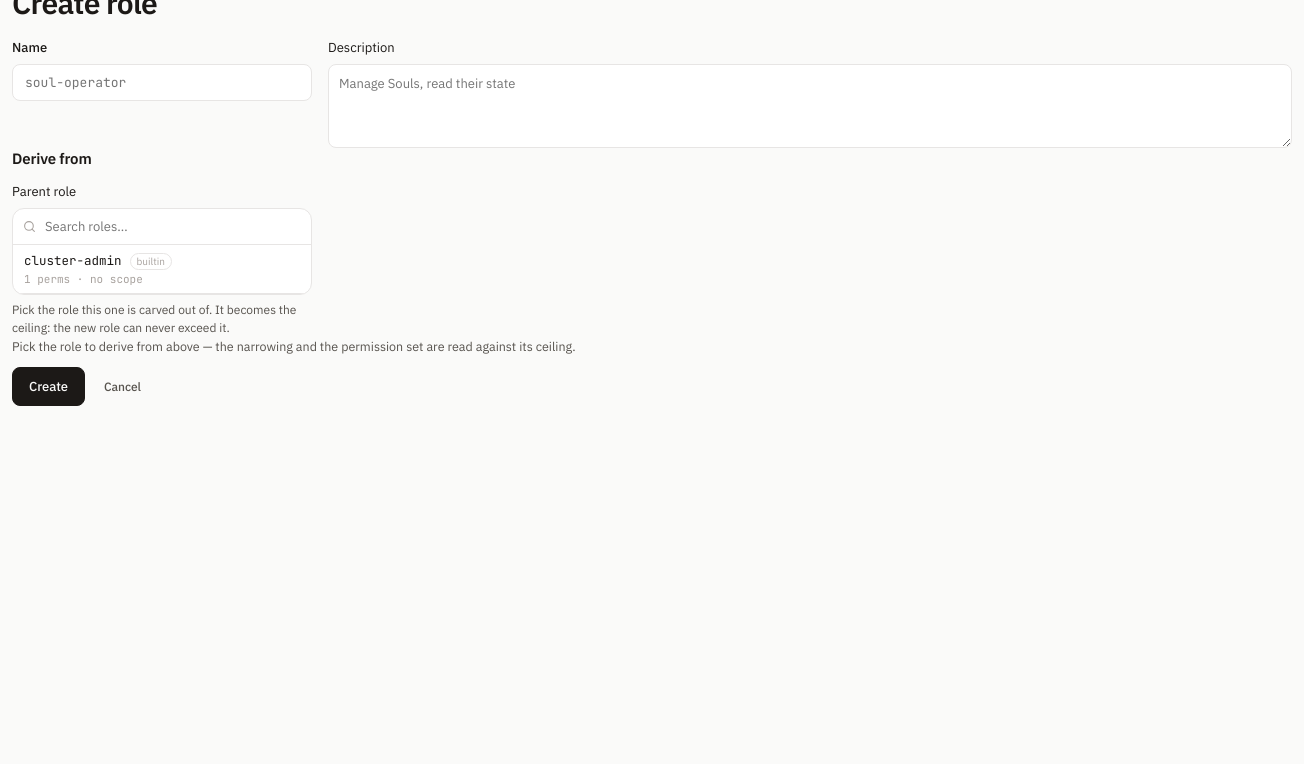
Scenario: CreateRolePage (NIM-80) › 409 already-exists → error visible, page is not left
This screenshot has width=1304, height=764.
Step 1. Type "log-reader" into the field with placeholder "soul-operator" → [162, 82], box [12,64,312,100]
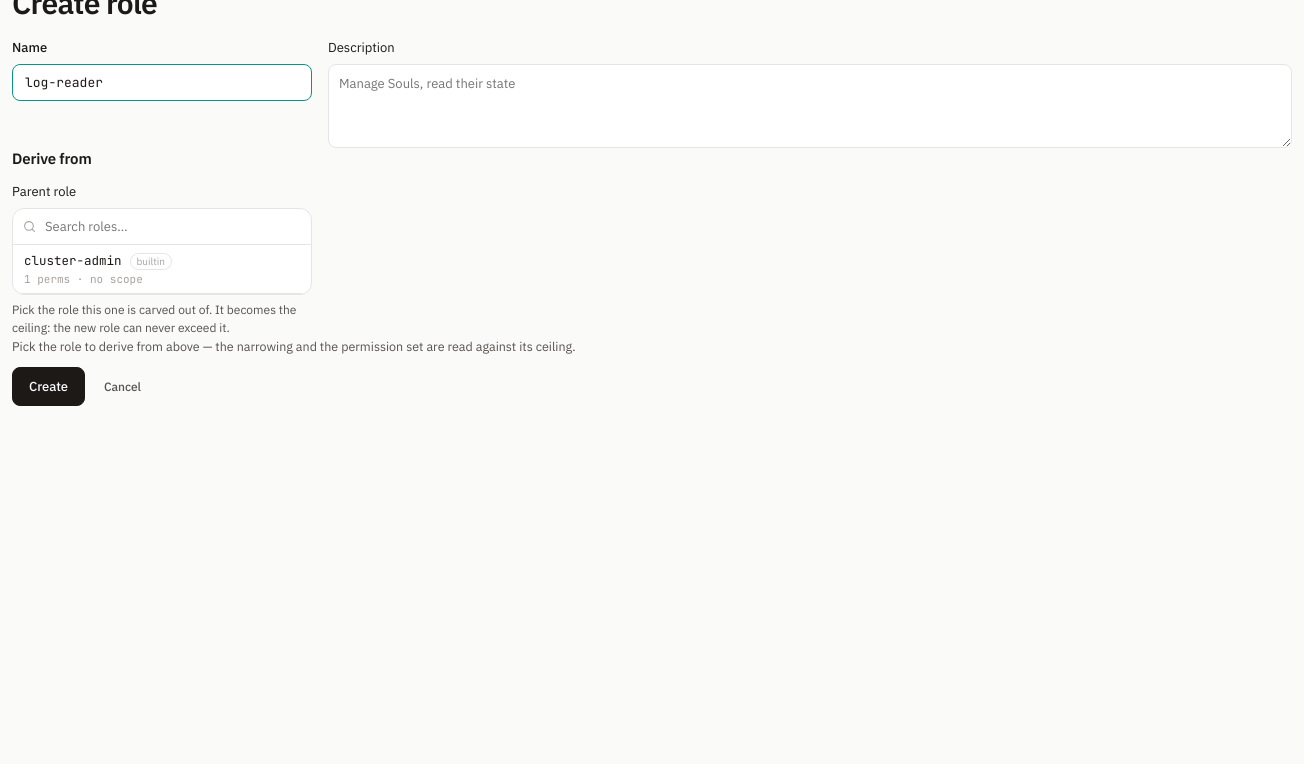
Step 2. Click the radio button with test id "parent-role-option-cluster-admin" → [162, 269], box [13,244,311,294]
(page scrolled)
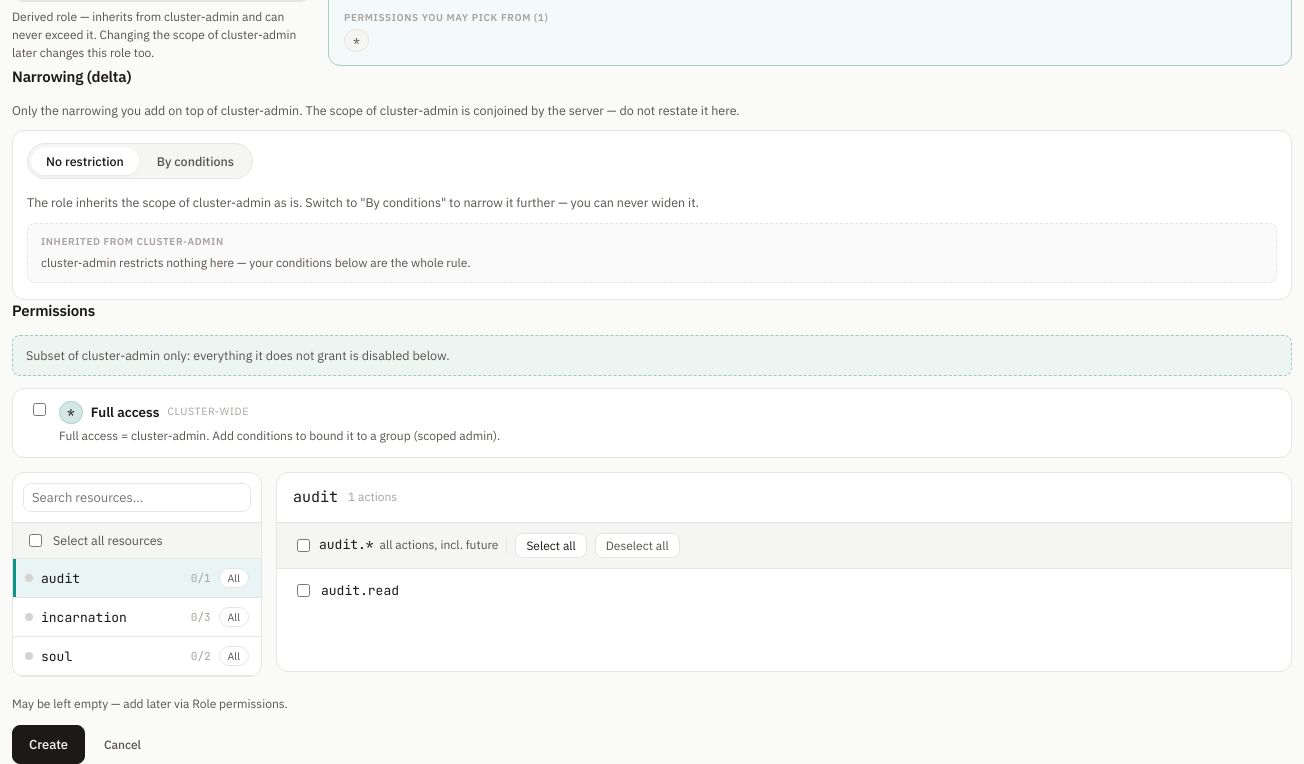
Step 3. Click the button "Create" → [48, 745], box [12,725,85,763]
(page scrolled)
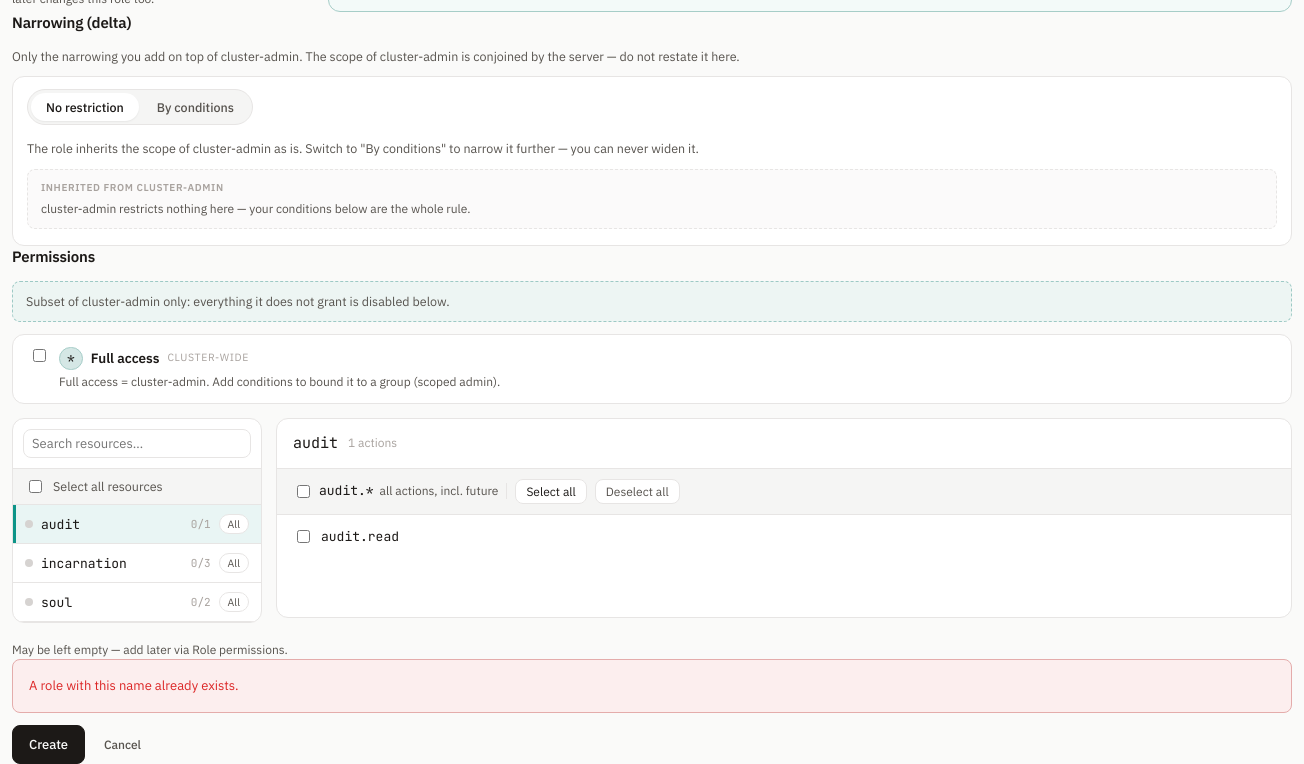
expect the message shows "already exists": met, box [29,677,239,694]
